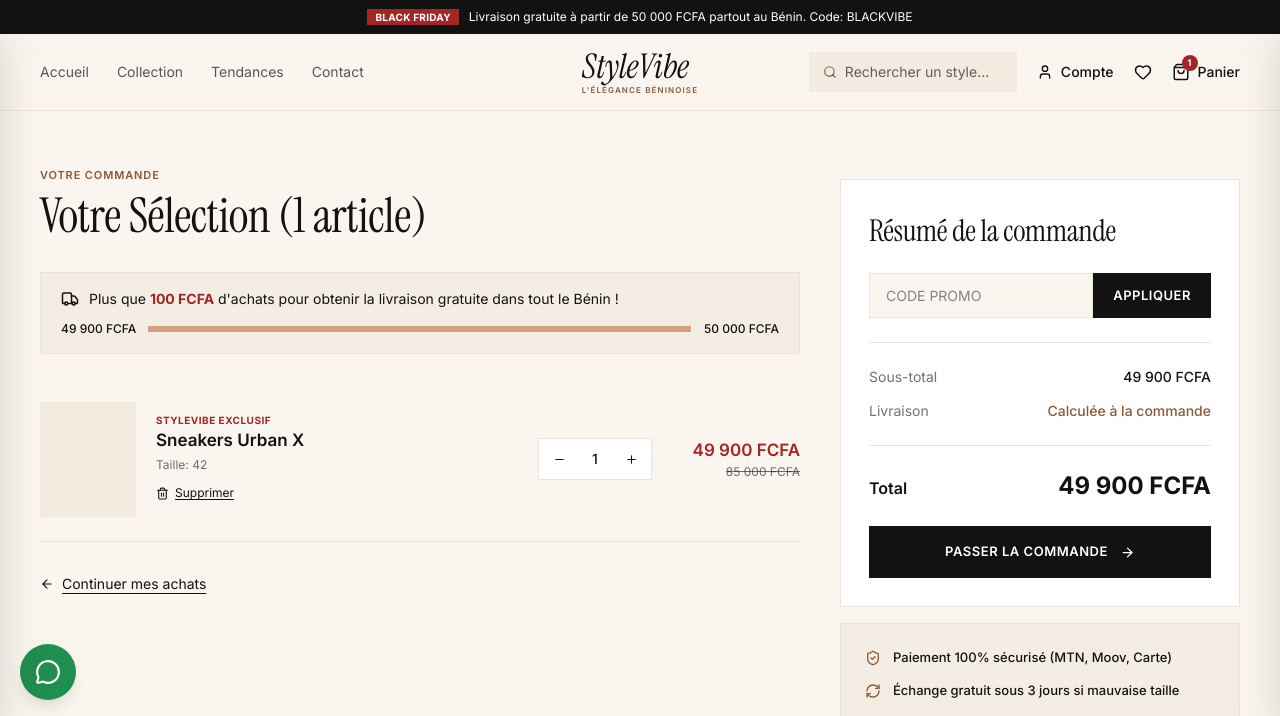
panier › le code promo n’est appliqué que s’il est saisi
The image size is (1280, 716).
Expected: the text "réduction bf" is not shown
Step 1. Type "BLACKVIBE" into the field labelled "Code promo" → (981, 296), box [869,273,1093,318]
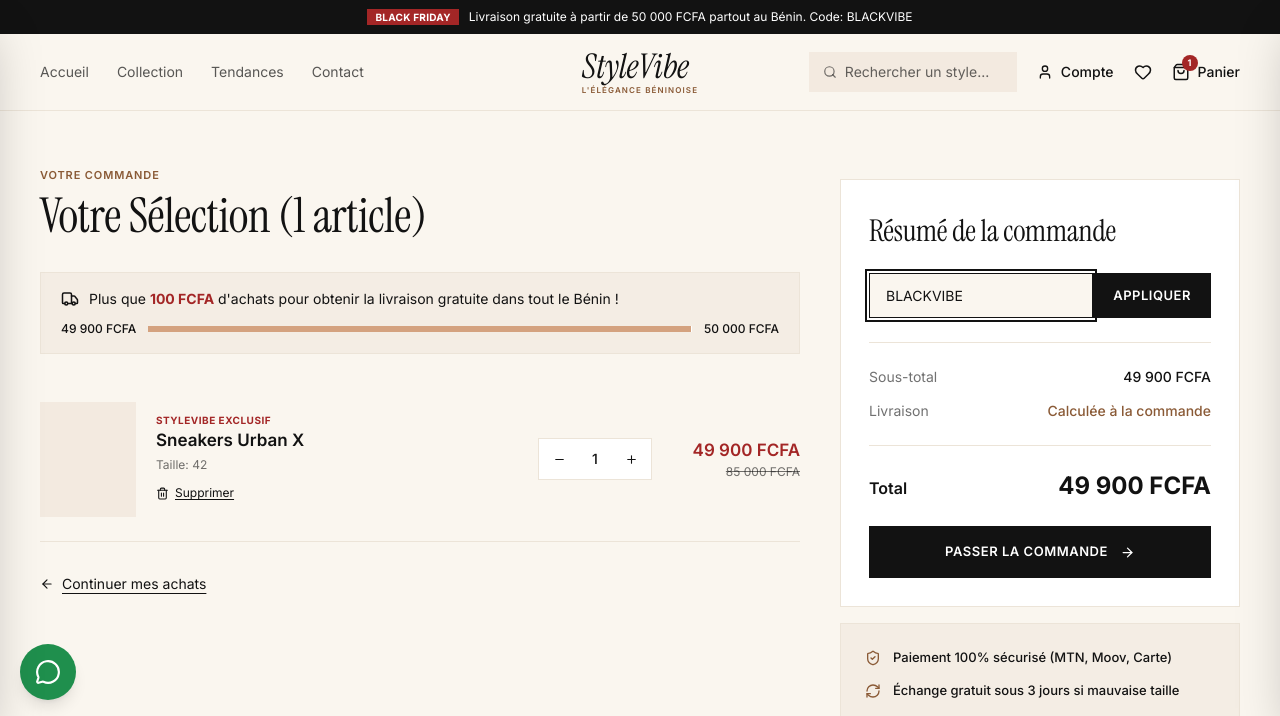
Step 2. Click the button "Appliquer" → (1152, 296), box [1093,273,1211,318]
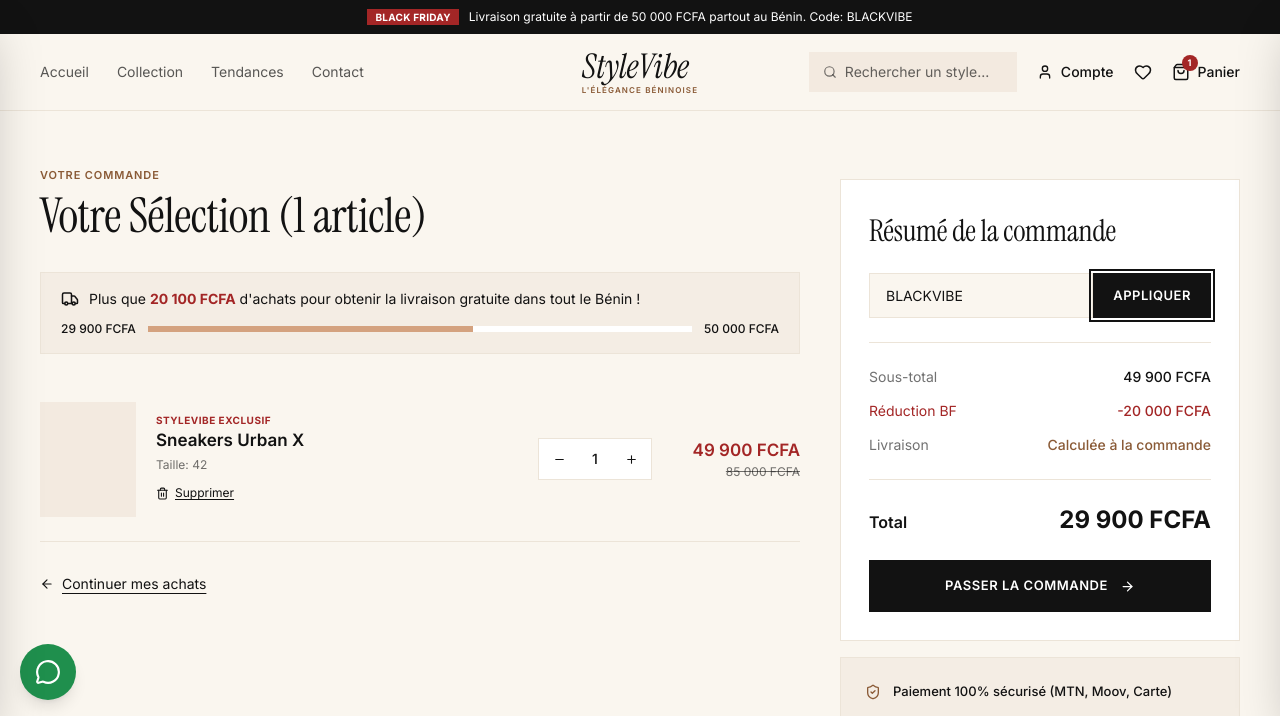
Result: the text "Réduction BF" is shown at [869,401,957,421]
